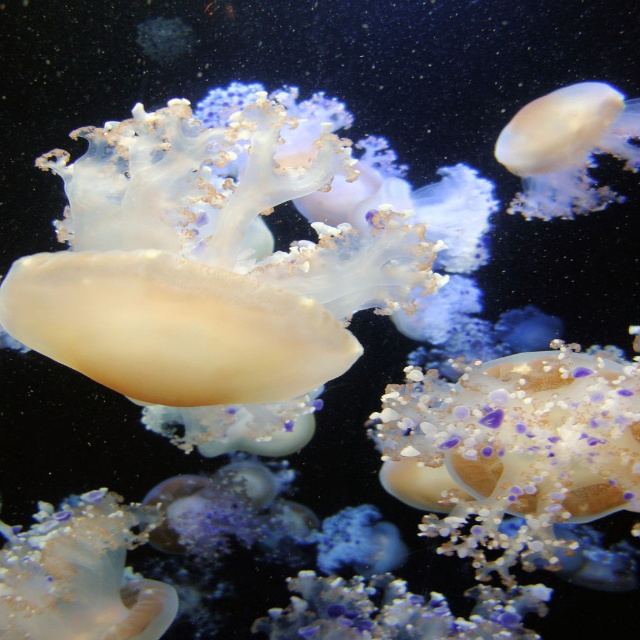Jellyfish: (0, 88, 452, 406), (369, 344, 639, 536), (0, 490, 191, 640), (489, 84, 639, 220)
